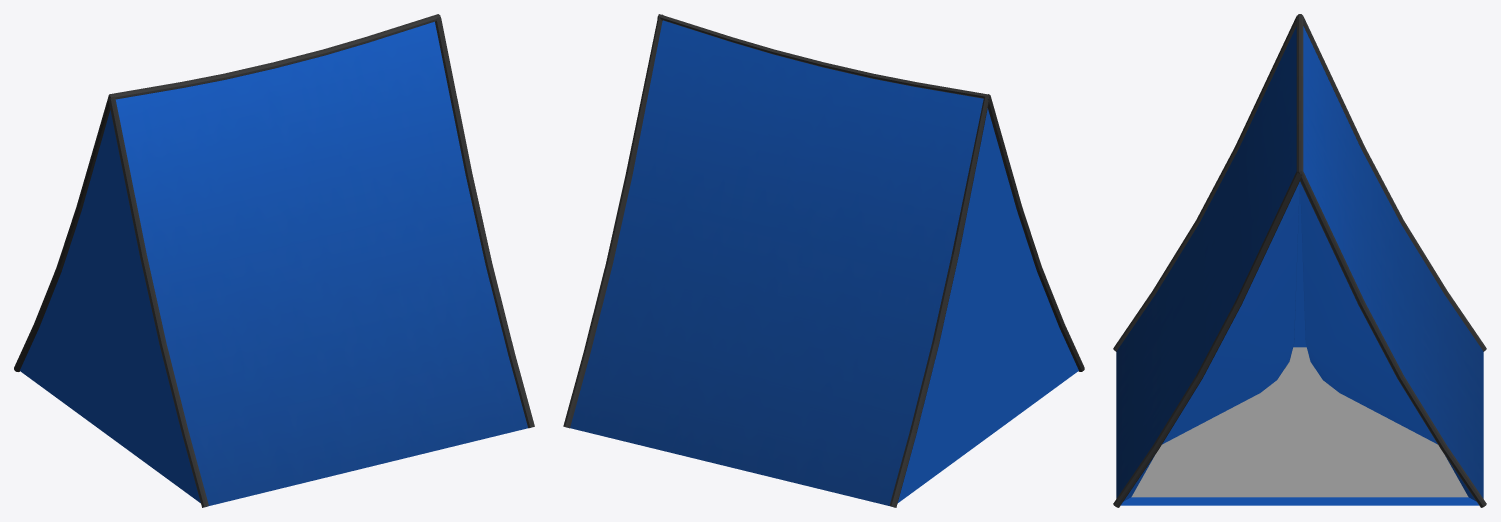
Rendered from Cadir.fbx.
3 renders of one model, left to right at view 1: azimuth 30°, elevation 25°; view 2: azimuth 150°, elevation 25°; view 3: azimuth 270°, elevation 25°, orthographic. The views are drawn at different scales.
Parts seen in each view (by area): view 1: Cube; view 2: Cube; view 3: Cube.
Boxes of the visible parts, left/top/right/bottom form: Cube: left=14, top=14, right=534, bottom=507; Cube: left=563, top=14, right=1084, bottom=507; Cube: left=1113, top=14, right=1486, bottom=507.
Size of the model in its own units: 204 by 203 by 203.
